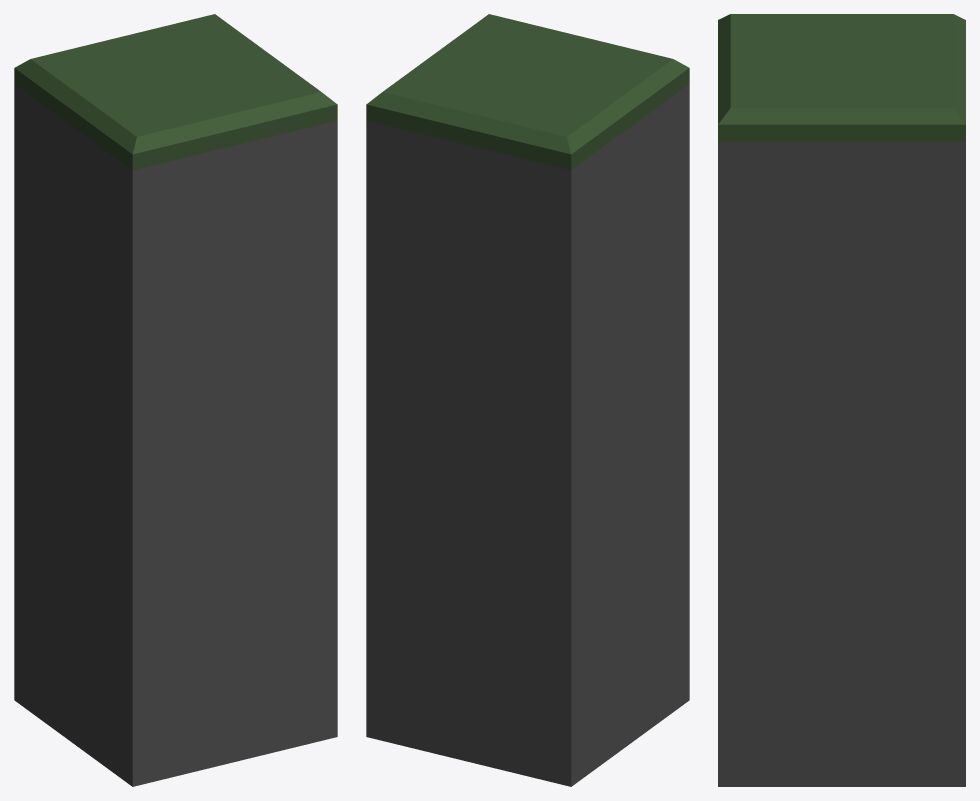
The model's file is Cliff2.fbx.
3 renders of one model, left to right at view 1: azimuth 30°, elevation 25°; view 2: azimuth 150°, elevation 25°; view 3: azimuth 270°, elevation 25°, orthographic. The views are drawn at different scales.
Visible parts, largest first — view 1: Cube; view 2: Cube; view 3: Cube.
Boxes of the visible parts, <box> form: Cube: <box>14,14,337,786</box>; Cube: <box>366,14,689,786</box>; Cube: <box>718,14,965,786</box>.
Bounding box in the file's own units: 2 × 6 × 2.
